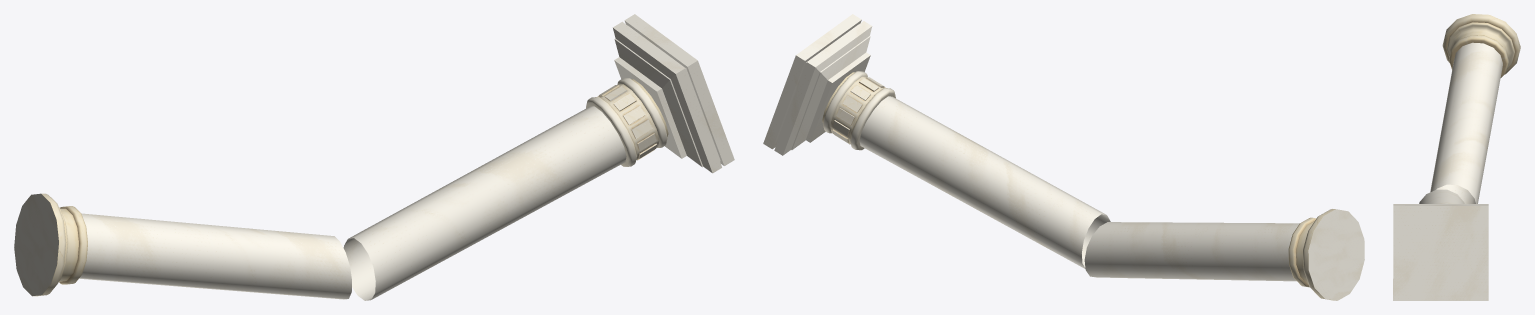
The model's file is Broken_pillar.fbx.
3 views of the same model, side by side, from view 1: azimuth 30°, elevation 25°; view 2: azimuth 150°, elevation 25°; view 3: azimuth 270°, elevation 25° (orthographic). The views are drawn at different scales.
Parts seen in each view (by area): view 1: Brocken_pillar; view 2: Brocken_pillar; view 3: Brocken_pillar.
Boxes of the visible parts, x1,y1,x2,y2 form: Brocken_pillar: (14, 14, 734, 300); Brocken_pillar: (763, 14, 1364, 300); Brocken_pillar: (1393, 14, 1520, 300).
Size of the model in its own units: 9.61 by 2.65 by 2.17.
